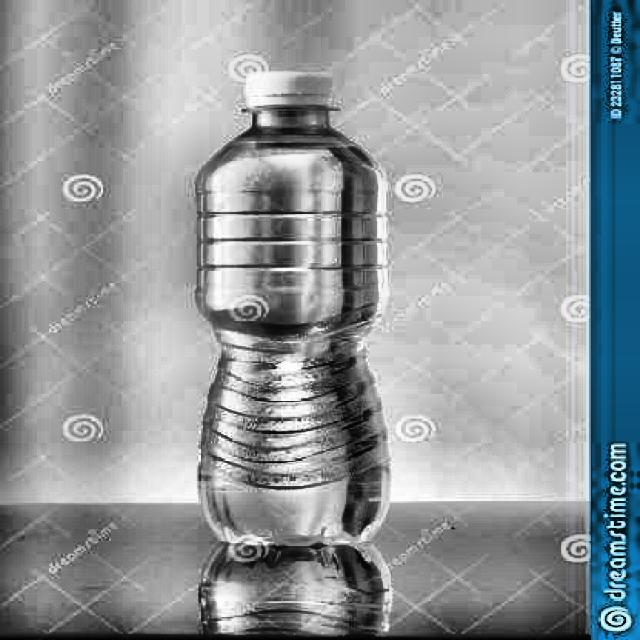Bottles: (181, 43, 443, 574)
